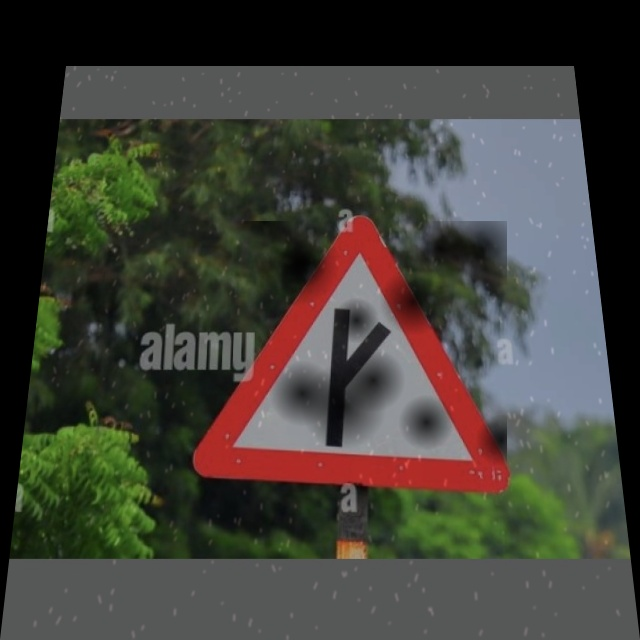Y_Intersection: (195, 221, 507, 488)
